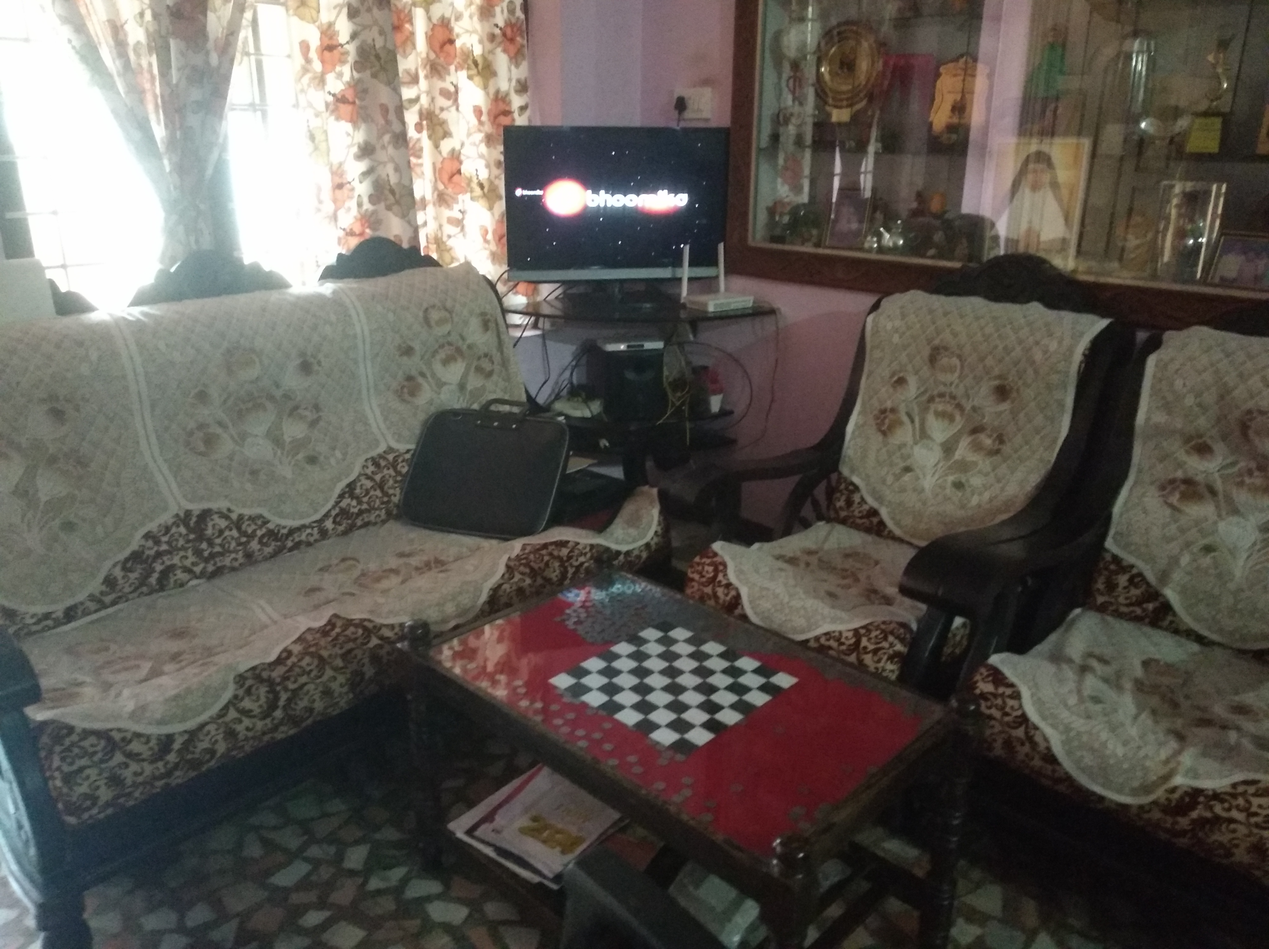sofa: (0, 264, 672, 949), (944, 322, 1269, 949), (675, 256, 1136, 694)
table: (395, 567, 957, 949)
